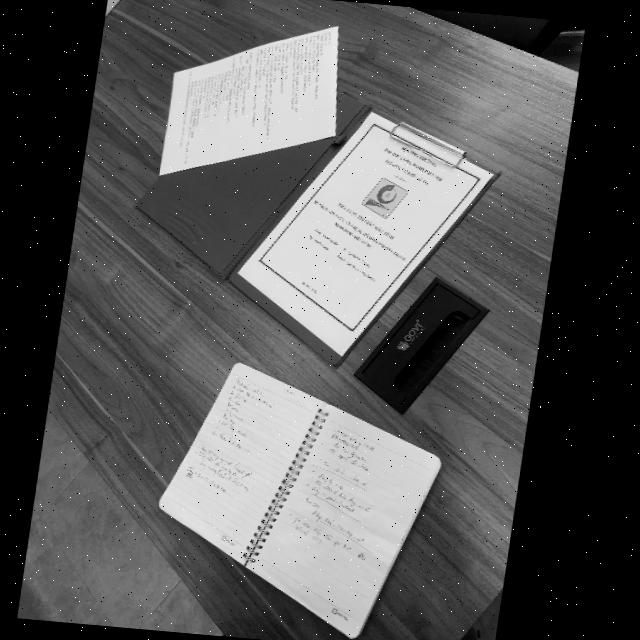document: (159, 363, 440, 638), (237, 112, 493, 356), (159, 26, 338, 174)
